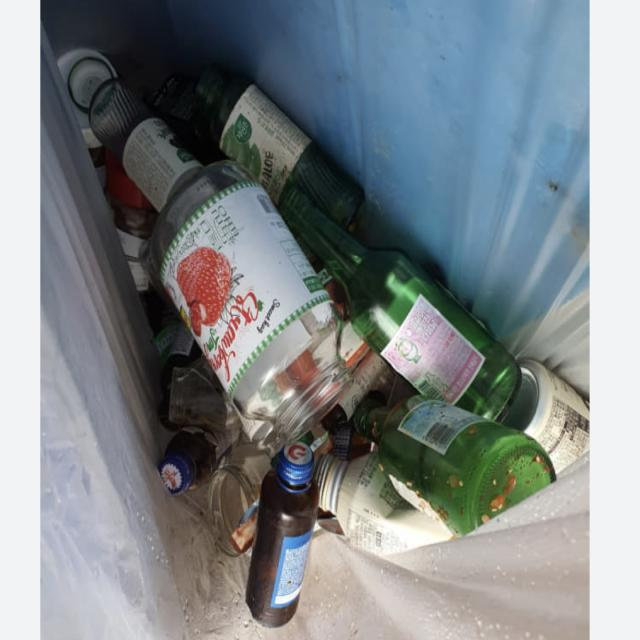recyclable: (137, 146, 356, 455), (293, 166, 533, 431)
